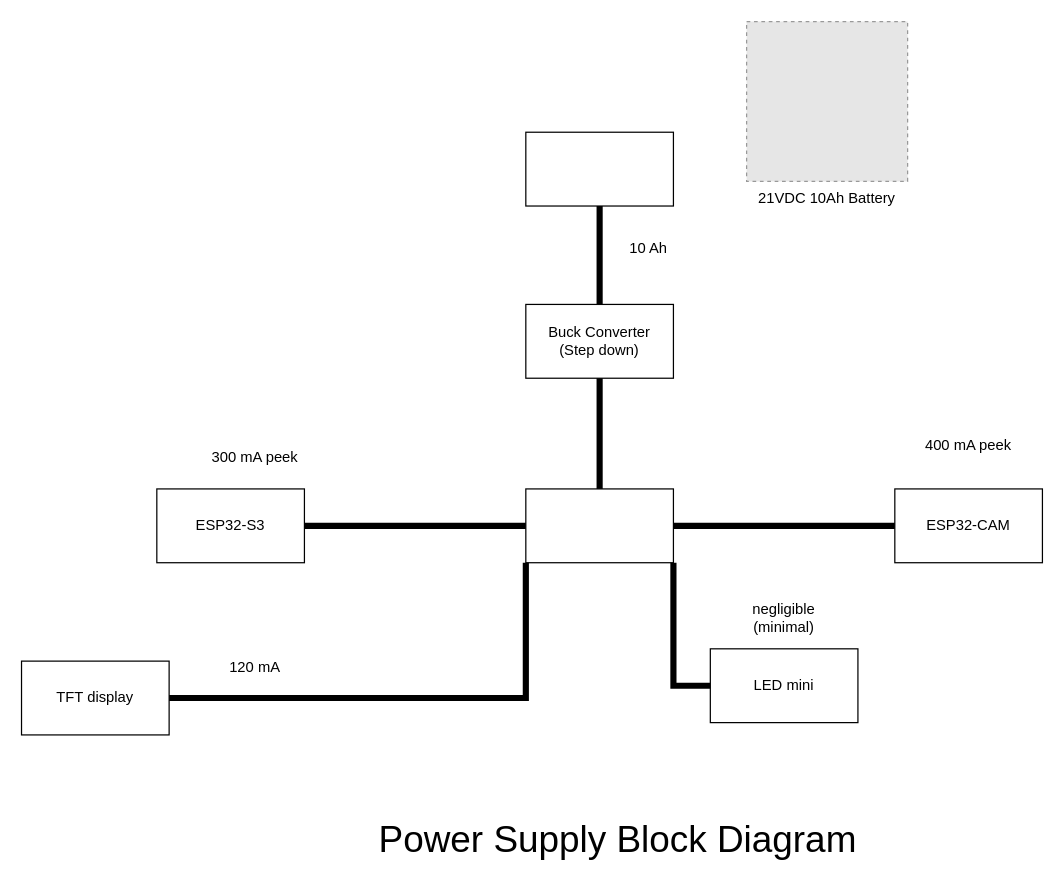
This 1064x883 diagram has some shape labels left out. Grey dashed boxes stand in for pictures. Here are the shapes that lost their labels. From the top down, the box of each, then its label:
(525, 131, 673, 206): 21 VDC
(525, 488, 673, 563): 5 VDC
